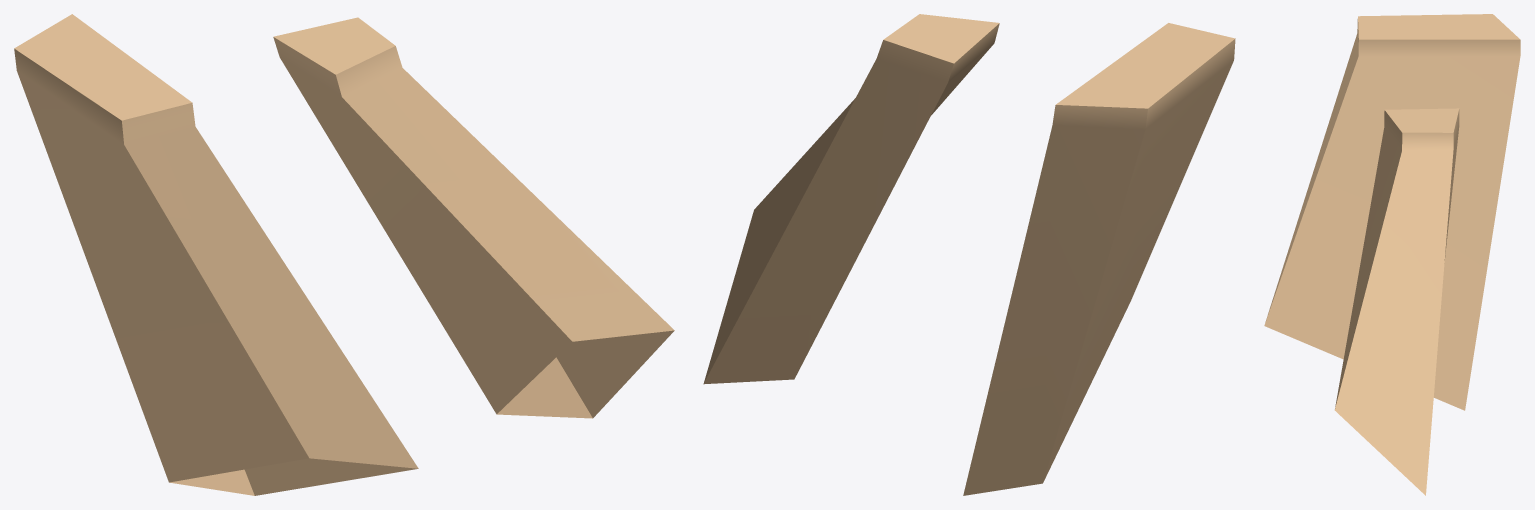
The model's file is AI_FX_LightRay_03.fbx.
The picture shows the model from 3 angles, left to right: view 1: azimuth 30°, elevation 25°; view 2: azimuth 150°, elevation 25°; view 3: azimuth 270°, elevation 25°; orthographic projection. The views are drawn at different scales.
Parts seen in each view (by area): view 1: AI_FX_LightRay_03; view 2: AI_FX_LightRay_03; view 3: AI_FX_LightRay_03.
Boxes of the visible parts, box(x1,y1,x2,y2) form: AI_FX_LightRay_03: box(14, 14, 674, 495); AI_FX_LightRay_03: box(703, 14, 1235, 495); AI_FX_LightRay_03: box(1264, 14, 1520, 495).
Size of the model in its own units: 5.13 by 4.39 by 3.14.
